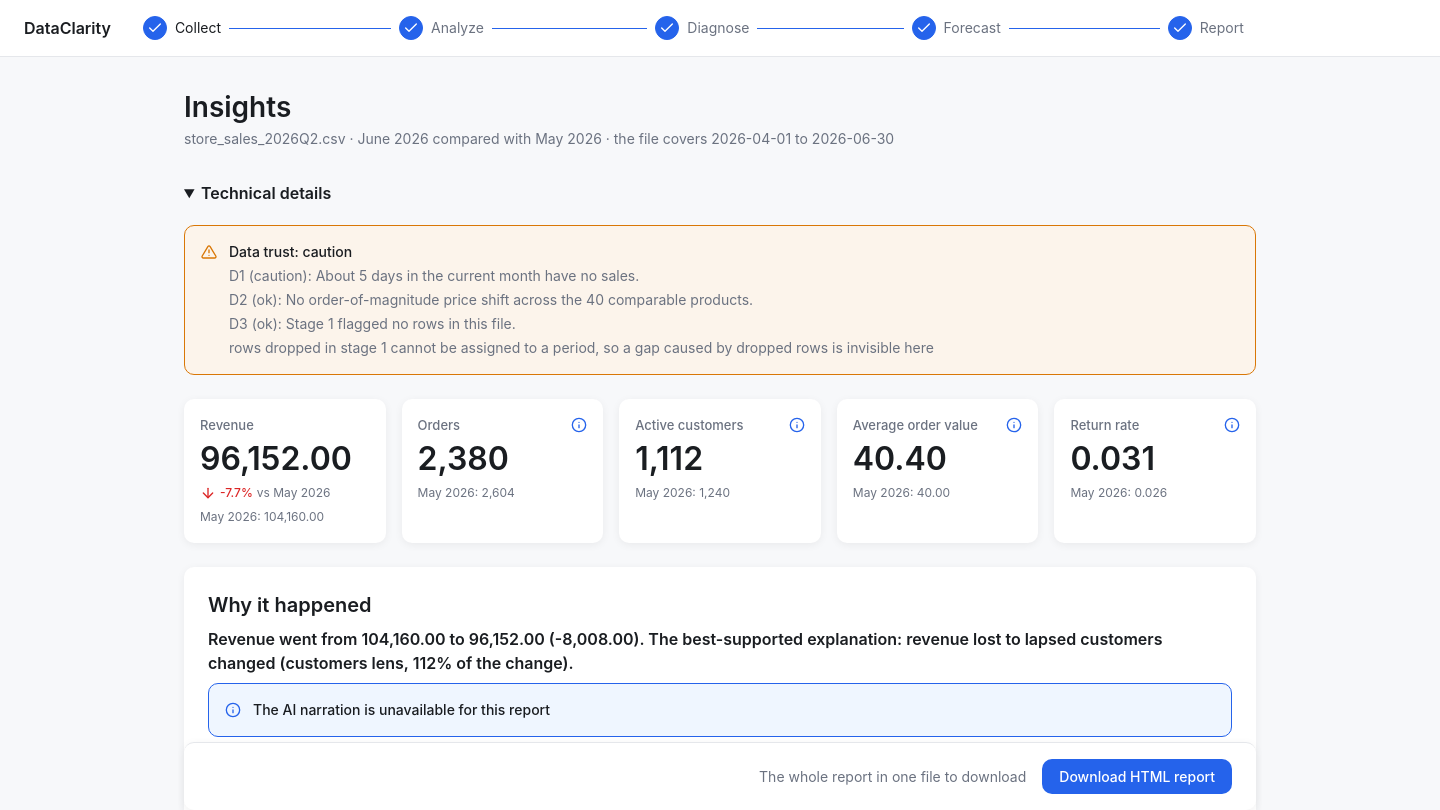
InsightsPage: the report download › says why a download failed
This screenshot has width=1440, height=810.
Click the button "Download HTML report": (1137, 776) [1042,759,1232,794]
(page scrolled)
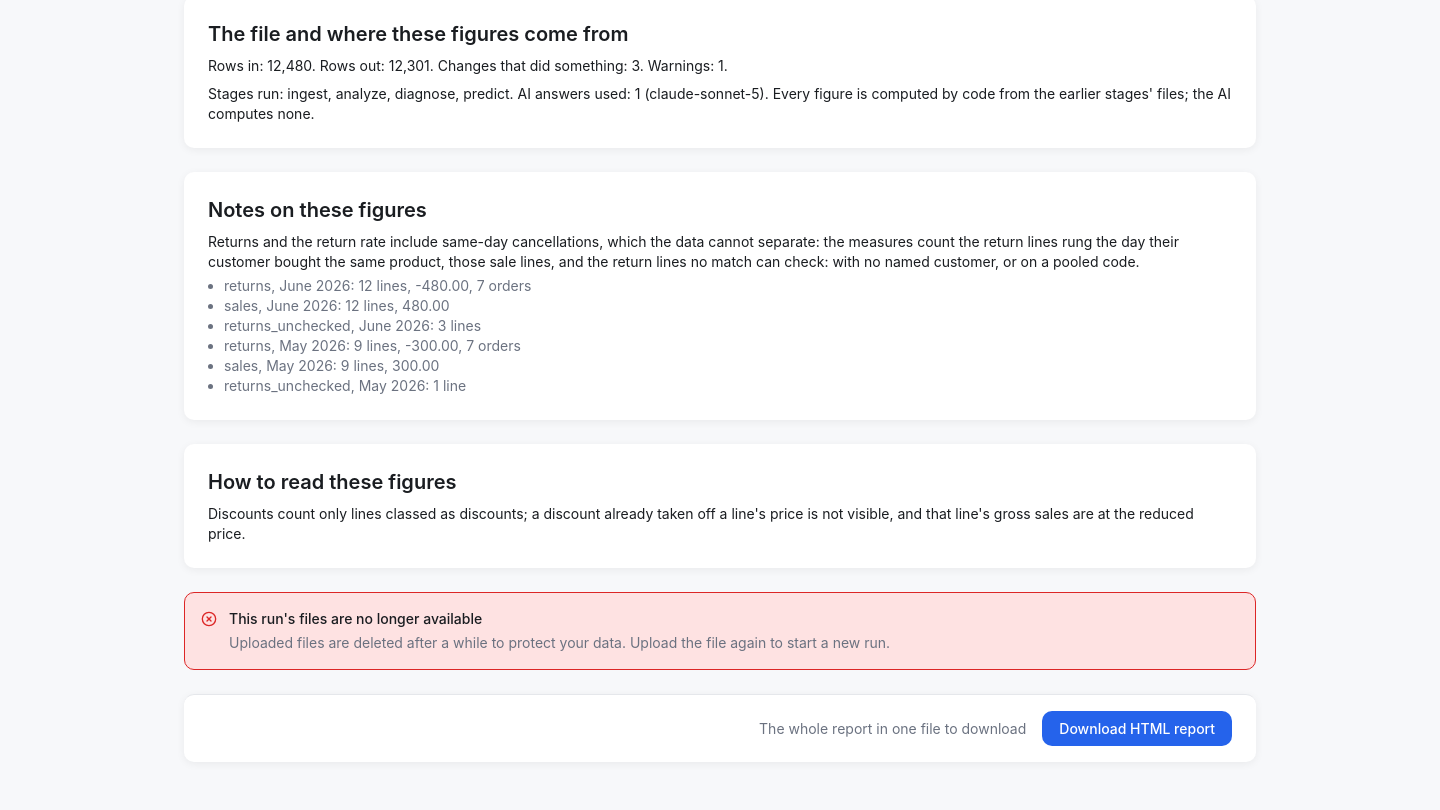
Expected: the text "This run's files are no longer available" is shown, [229,610,482,627]
